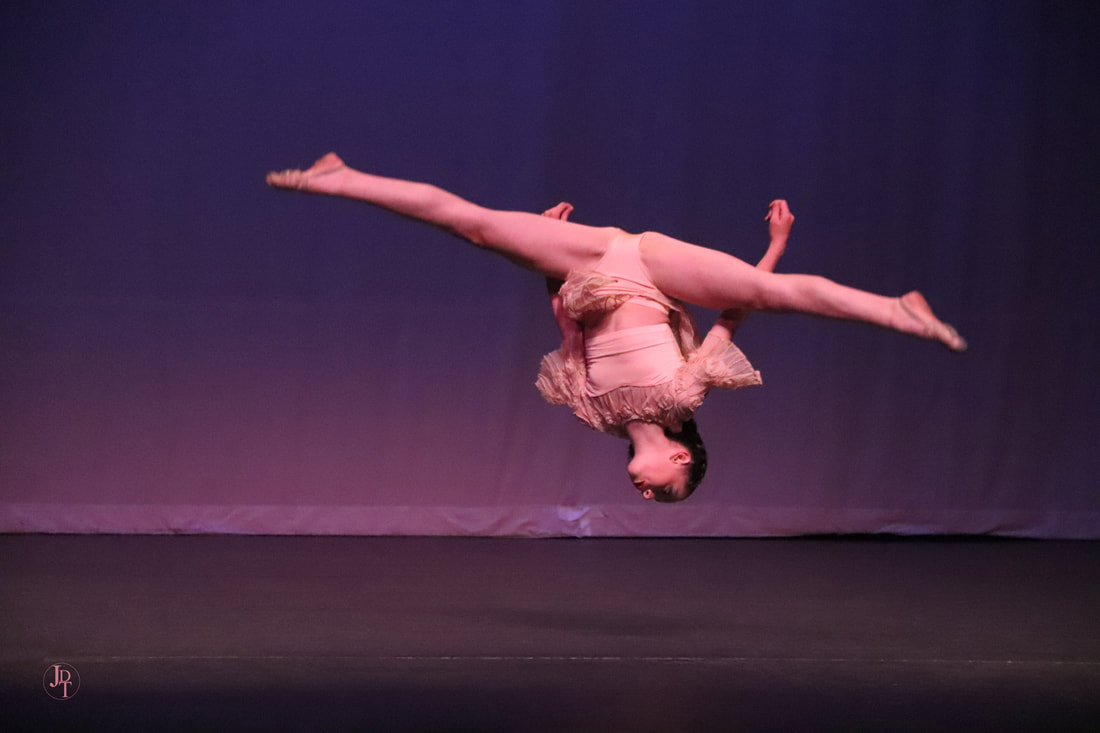Person: (257, 141, 977, 518)
